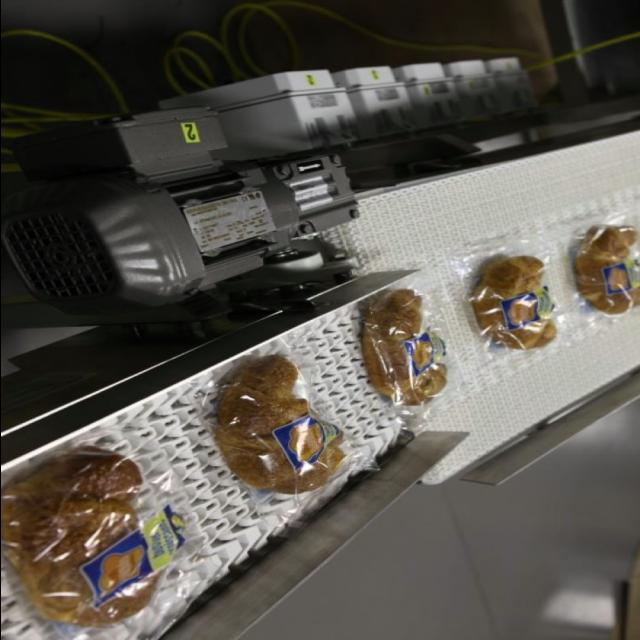food: (2, 444, 188, 628), (213, 353, 355, 495), (360, 287, 450, 407), (468, 254, 560, 350), (570, 223, 640, 316)
